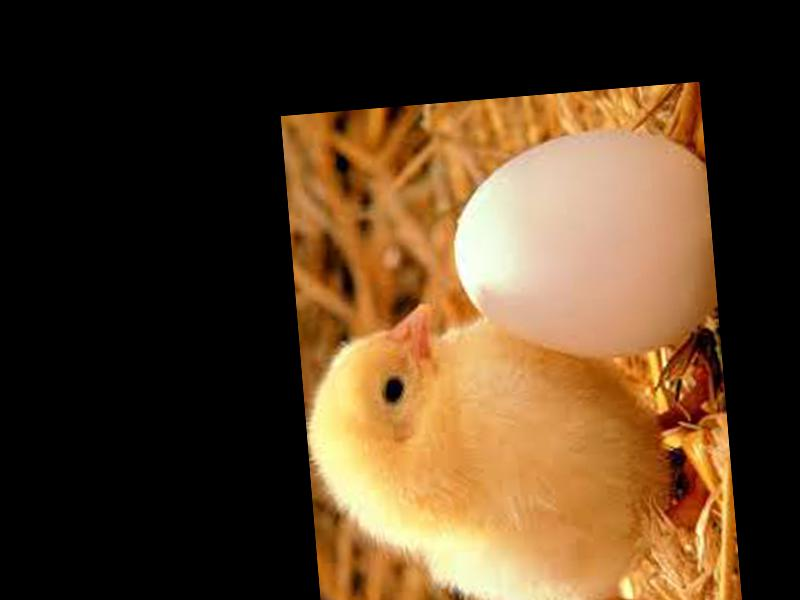Eggs: (444, 122, 721, 370)
